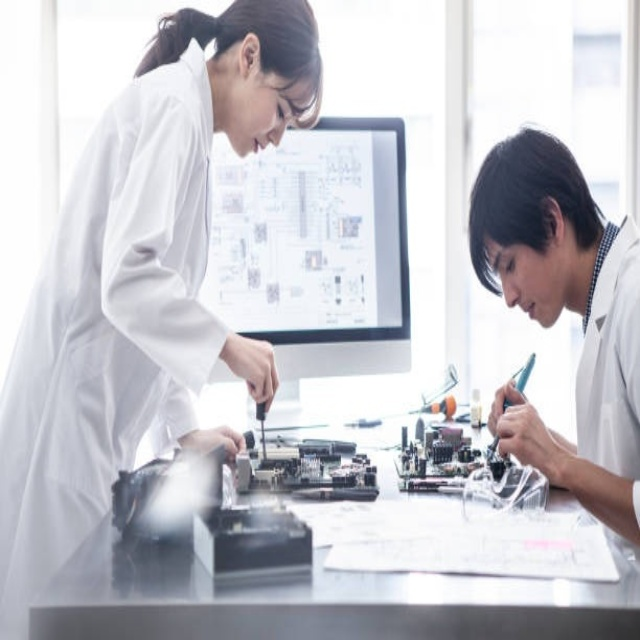Sin_gafas: (266, 69, 292, 136), (492, 240, 523, 296)
Sin_guantes: (488, 376, 568, 486), (223, 325, 281, 416), (179, 422, 247, 460)
Sin_mascara: (516, 300, 549, 333), (237, 132, 267, 160)
